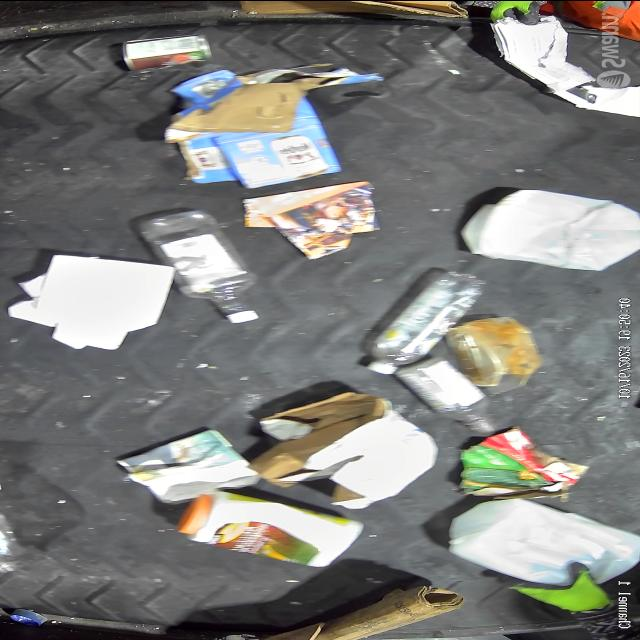can: (120, 32, 219, 72)
milk_jug: (442, 491, 640, 590), (457, 188, 640, 272)
non_white_jug: (166, 488, 360, 566)
plastic_bottle: (136, 209, 264, 321), (368, 266, 490, 378)
